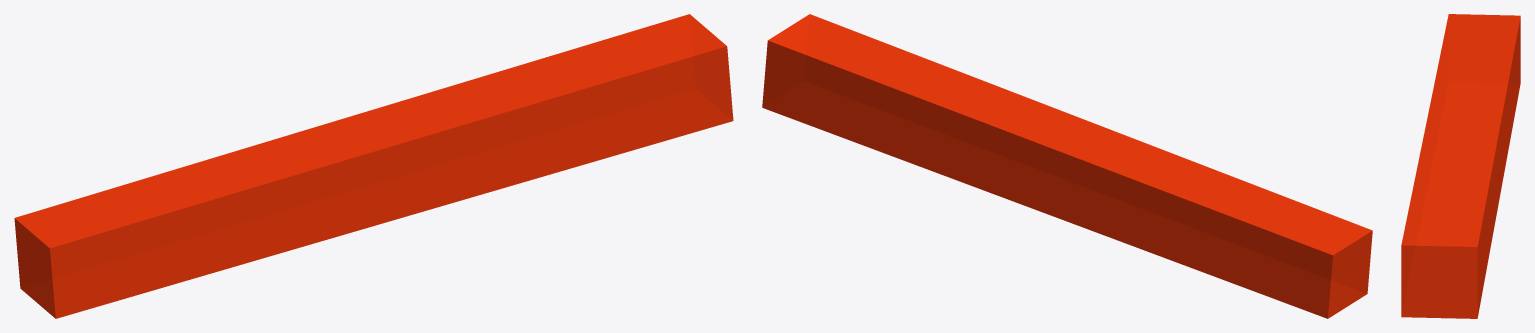
File: Event_420107950_EErechit_42.fbx
The picture shows the model from 3 angles, left to right: view 1: azimuth 30°, elevation 25°; view 2: azimuth 150°, elevation 25°; view 3: azimuth 270°, elevation 25°; orthographic projection. The views are drawn at different scales.
Parts seen in each view (by area): view 1: Model; view 2: Model; view 3: Model.
Part boxes in pixels (x1,y1,x2,y2): Model: (14,14,733,318); Model: (762,14,1372,318); Model: (1401,14,1520,318).
Bounding box in the file's own units: 0.6961 × 0.1353 × 0.1201.
